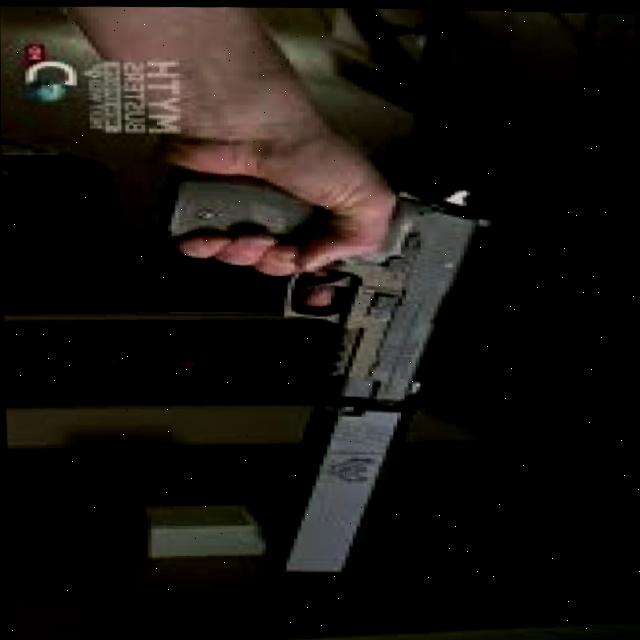pistol: (264, 176, 499, 578)
